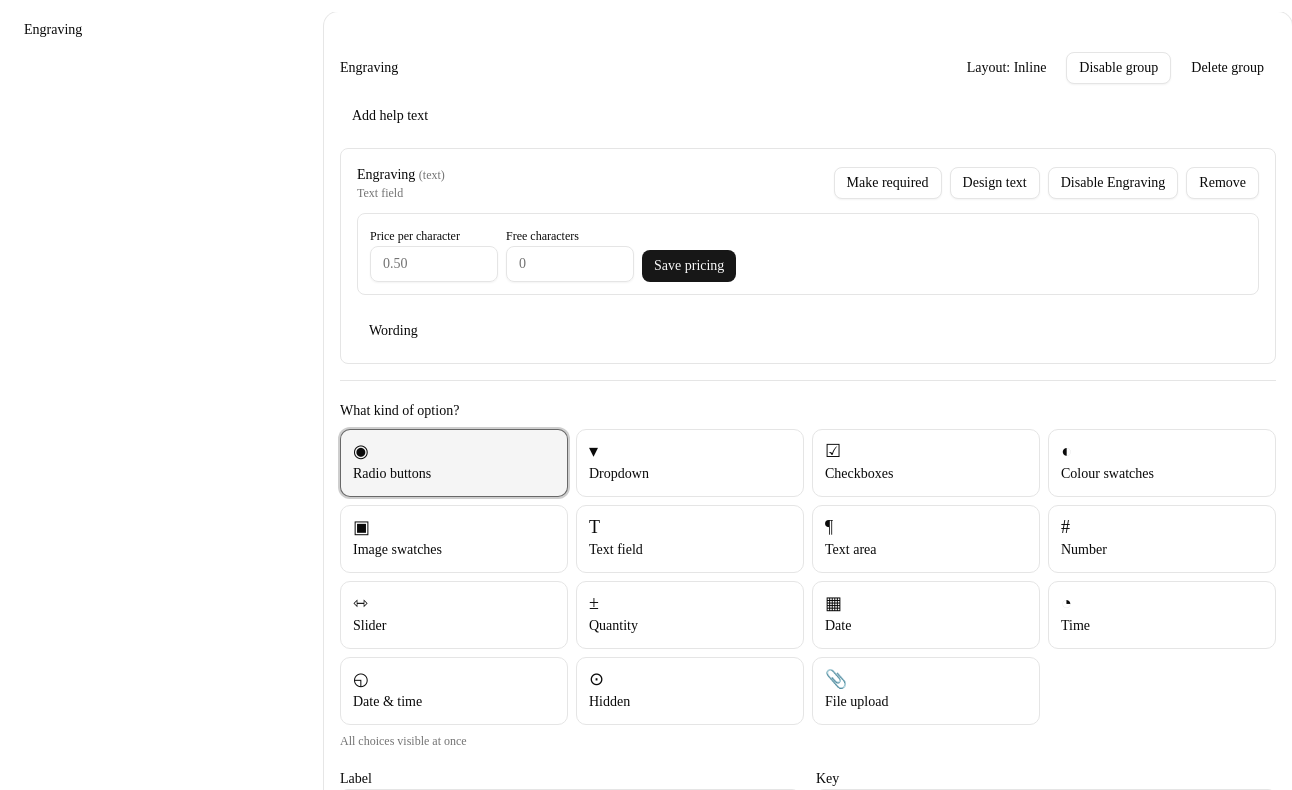
Test: option-level pricing › refuses a malformed amount
Type "lots" into the field labelled "Price per character" at (434, 264), box [370,246,498,282]
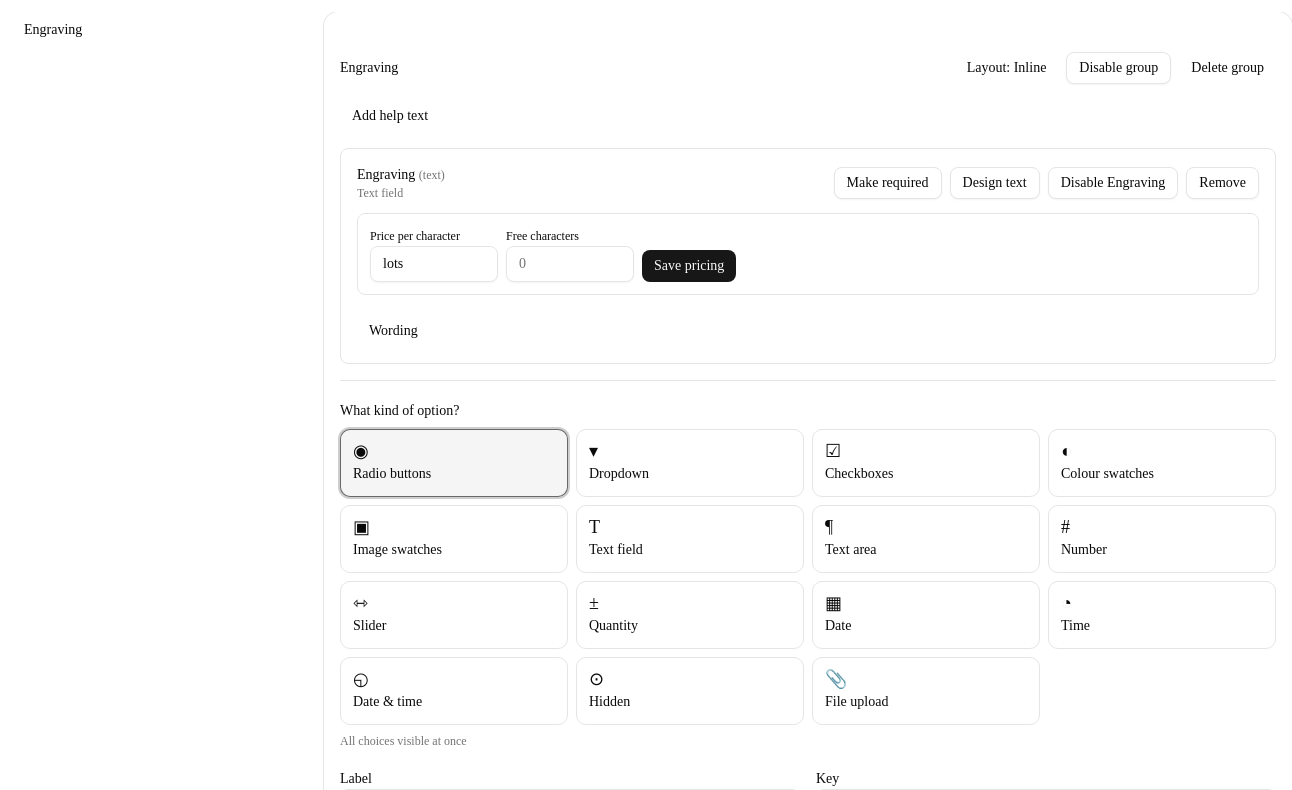
Click the button "Save pricing" at (689, 266), box [642,250,736,282]
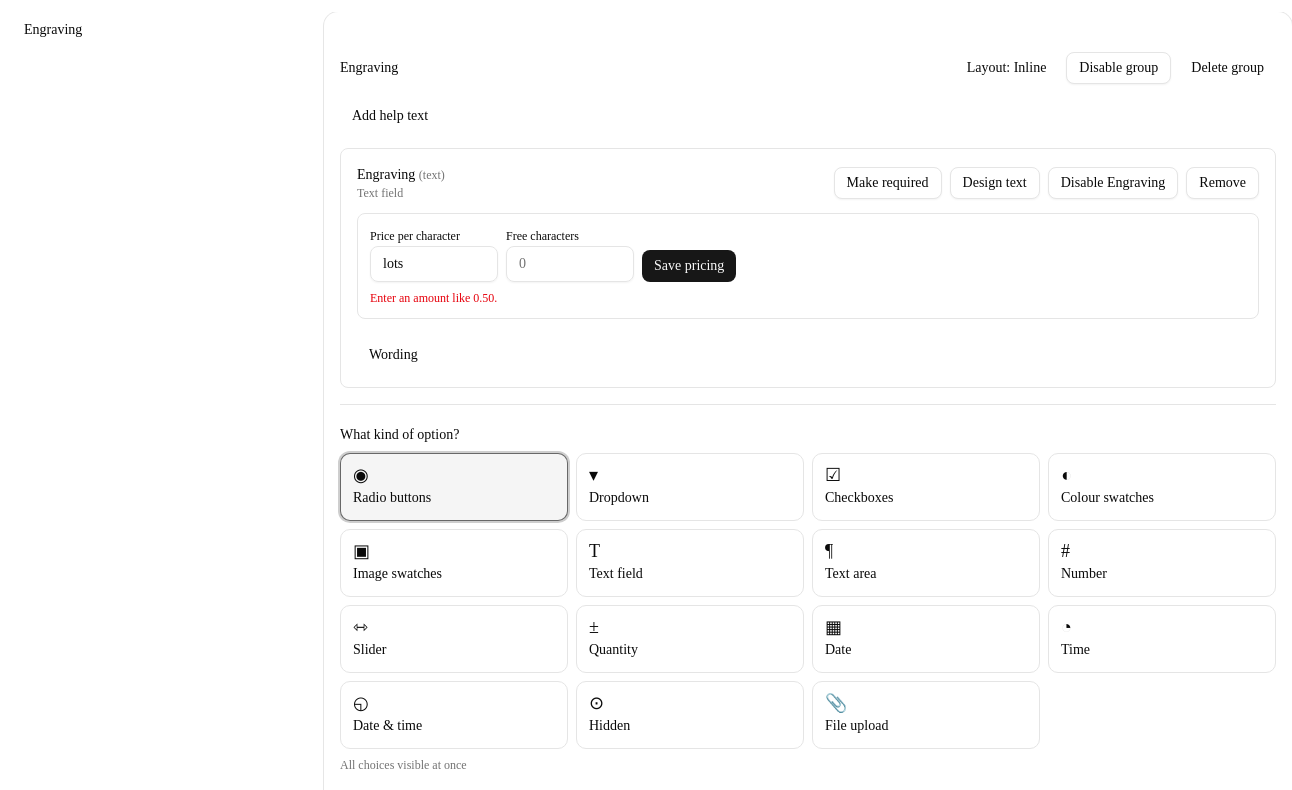
Result: the list item "Enter an amount like 0.50." is shown at [370,291,497,305]
